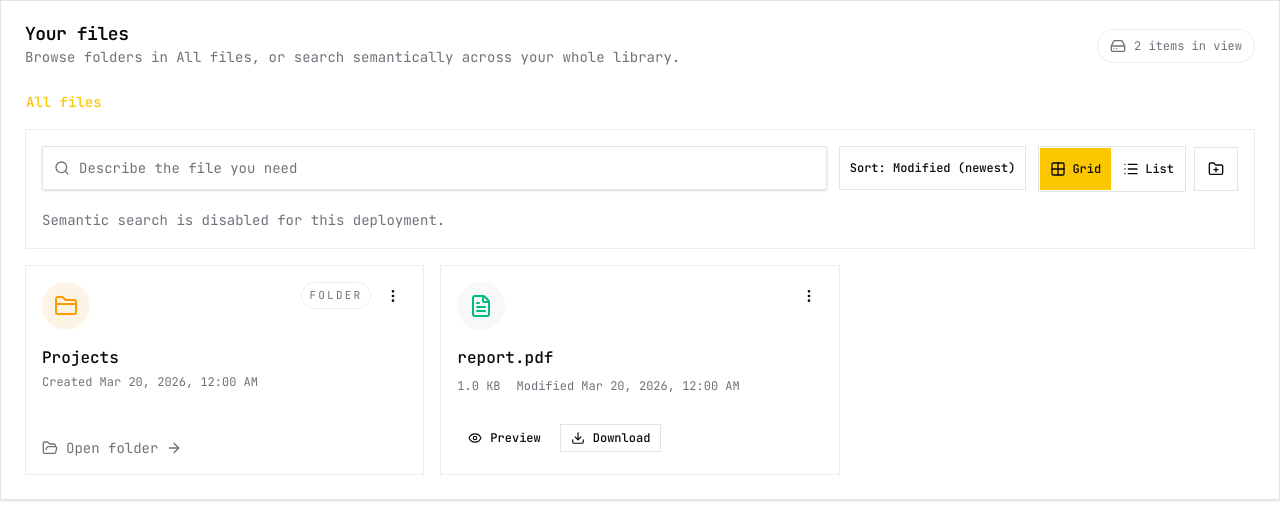
Test: FilesLibrary › shows the semantic disabled state when semantic search is unavailable
Type "cat" into the field named "Search semantically". click: (434, 168)
box: [42,146,827,190]
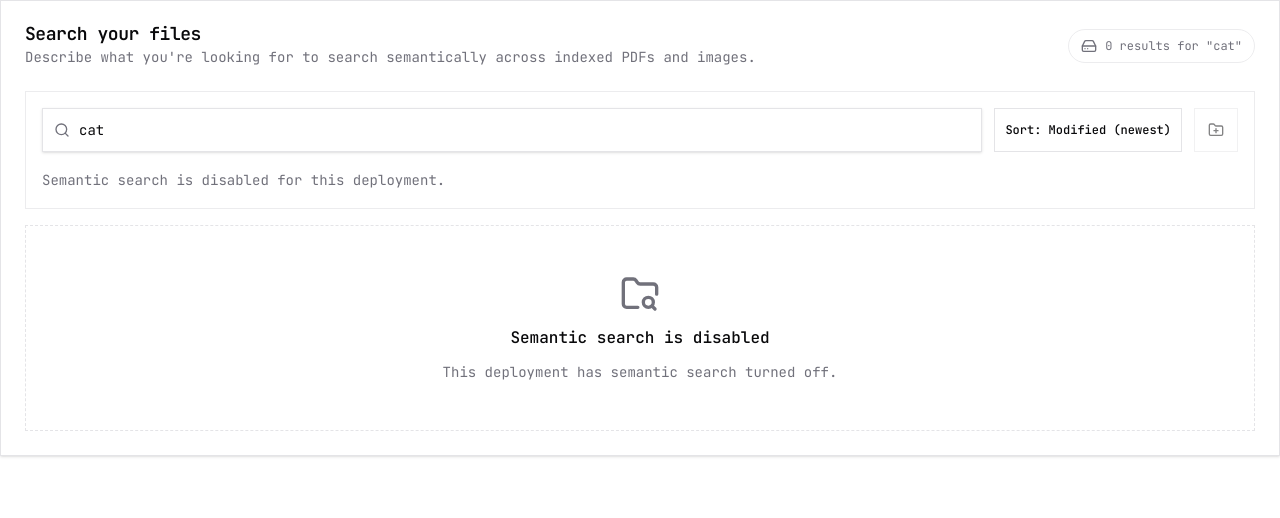
Expected: the text "Semantic search is disabled" is shown, [510,326,770,350]
Expected: the text "This deployment has semantic search turned off." is shown, [443,362,837,382]
